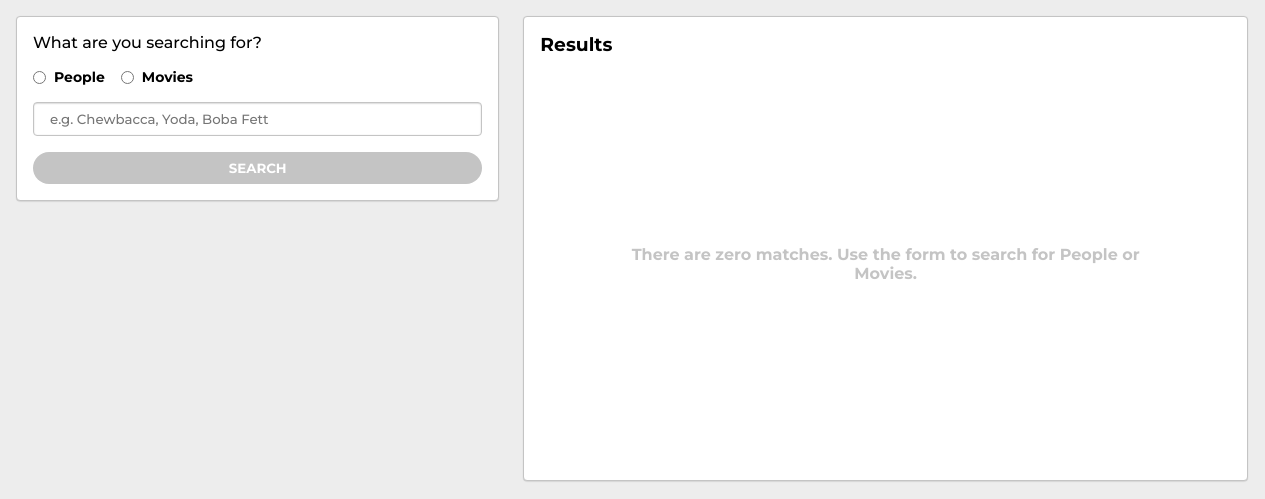
Test: HomePage › Search type switching › should switch to movies search type and update placeholder
Click the radio button labelled "Movies" at (127, 77), box [121,70,134,84]
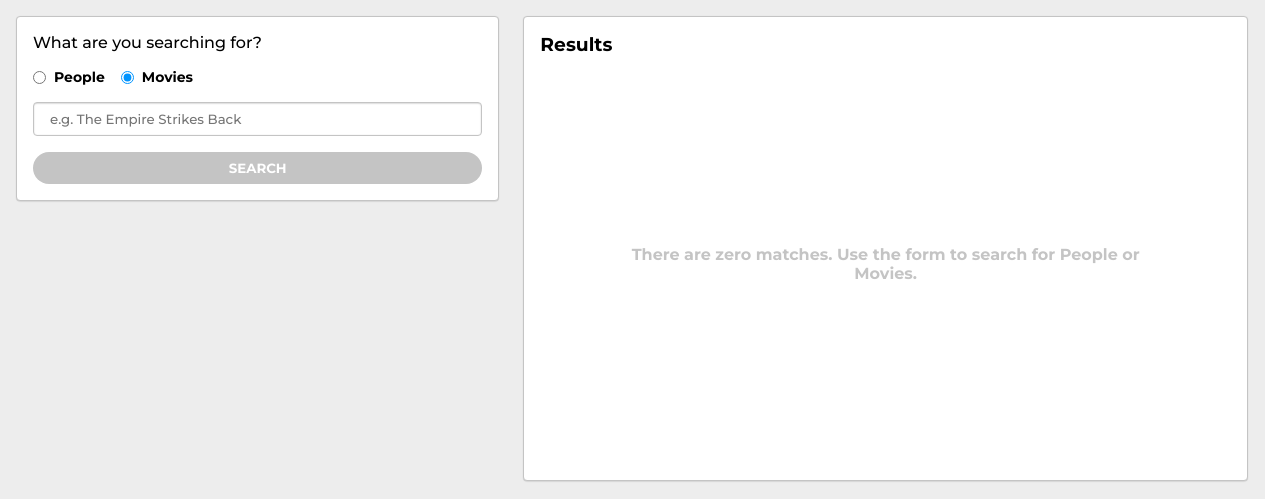
Check: the field with placeholder "e.g. The Empire Strikes Back" is shown, box [33,102,482,136]
